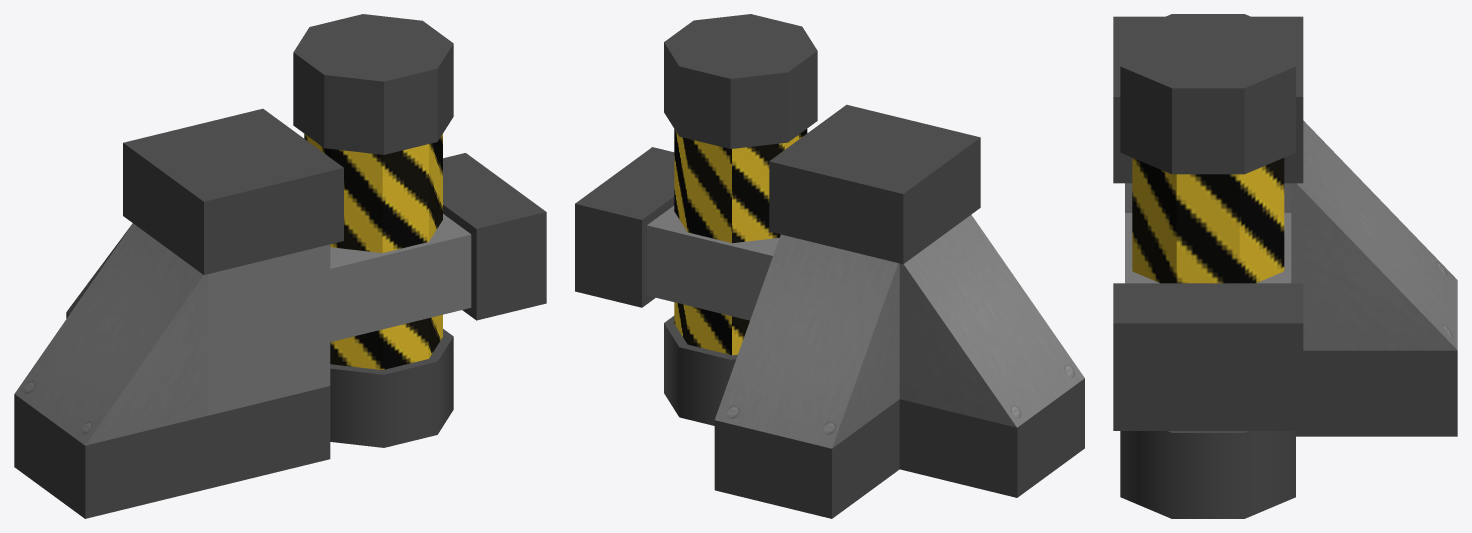
Rendered from Door_Pillar02.fbx.
3 views of the same model, side by side, from view 1: azimuth 30°, elevation 25°; view 2: azimuth 150°, elevation 25°; view 3: azimuth 270°, elevation 25° (orthographic). The views are drawn at different scales.
Parts seen in each view (by area): view 1: DPliiar02; view 2: DPliiar02; view 3: DPliiar02.
Part boxes in pixels (left/top/right/bottom): DPliiar02: left=14, top=14, right=546, bottom=518; DPliiar02: left=575, top=14, right=1084, bottom=518; DPliiar02: left=1113, top=14, right=1457, bottom=518.
Size of the model in its own units: 1304 by 1000 by 725.
